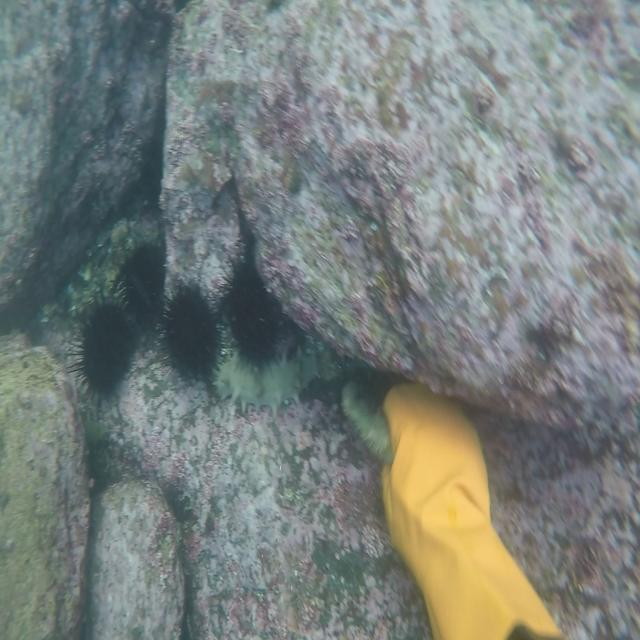echinus: (72, 299, 132, 405), (222, 254, 280, 363), (160, 286, 225, 382), (116, 235, 170, 326)
holothurian: (217, 340, 332, 410)
